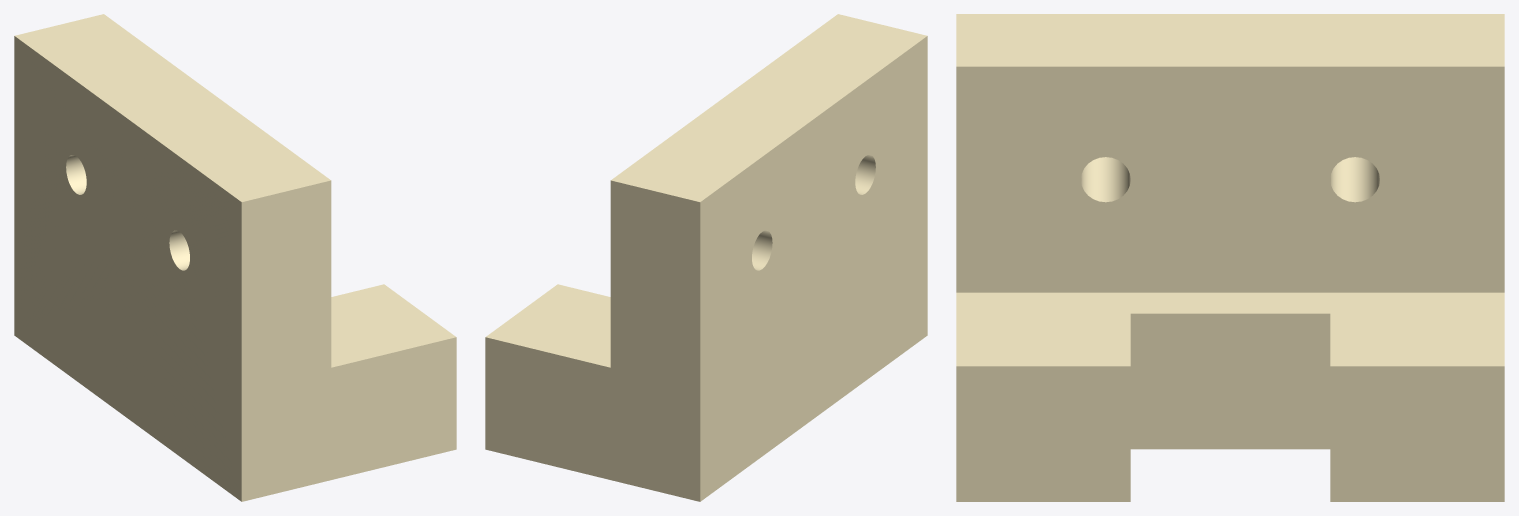
The picture shows the model from 3 angles, left to right: view 1: azimuth 30°, elevation 25°; view 2: azimuth 150°, elevation 25°; view 3: azimuth 270°, elevation 25°; orthographic projection. The views are drawn at different scales.
Parts seen in each view (by area): view 1: Root Node; view 2: Root Node; view 3: Root Node.
Boxes of the visible parts, x1,y1,x2,y2 form: Root Node: (14,14,456,501); Root Node: (485,14,927,501); Root Node: (956,14,1504,501).
Size of the model in its own units: 60 by 80 by 110.
